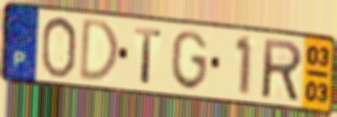1: (233, 35, 254, 99)
D: (77, 17, 121, 84)
G: (170, 29, 209, 93)
O: (38, 15, 79, 80)
R: (262, 37, 305, 104)
T: (133, 25, 164, 87)
